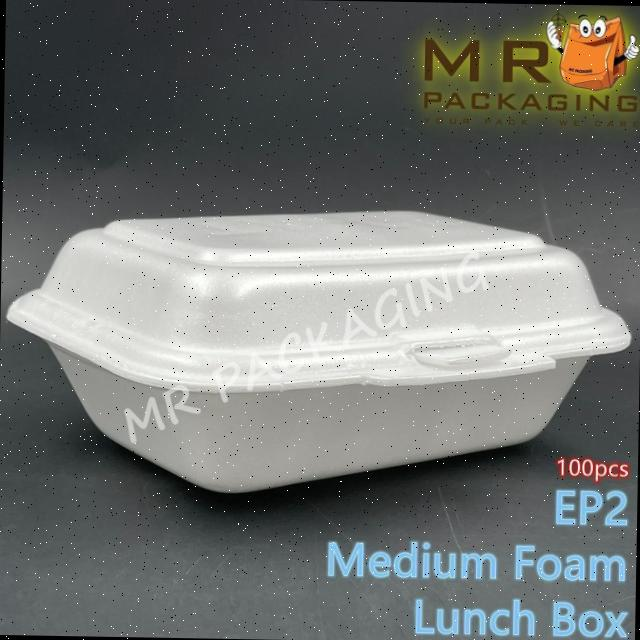styrofoam: (2, 200, 633, 501)
